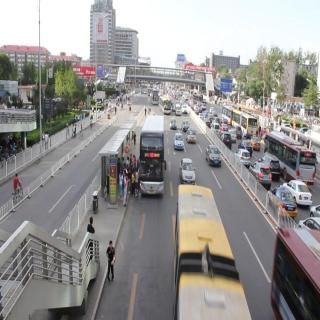Car: (173, 182, 250, 320), (270, 203, 320, 320), (139, 109, 164, 203), (266, 133, 320, 175), (173, 146, 205, 197), (289, 171, 308, 202), (204, 143, 222, 171), (275, 182, 291, 212), (157, 93, 172, 121), (256, 161, 270, 185), (179, 95, 194, 117), (234, 148, 248, 170), (248, 127, 260, 150), (177, 121, 184, 153), (186, 127, 197, 146), (240, 137, 251, 155)
